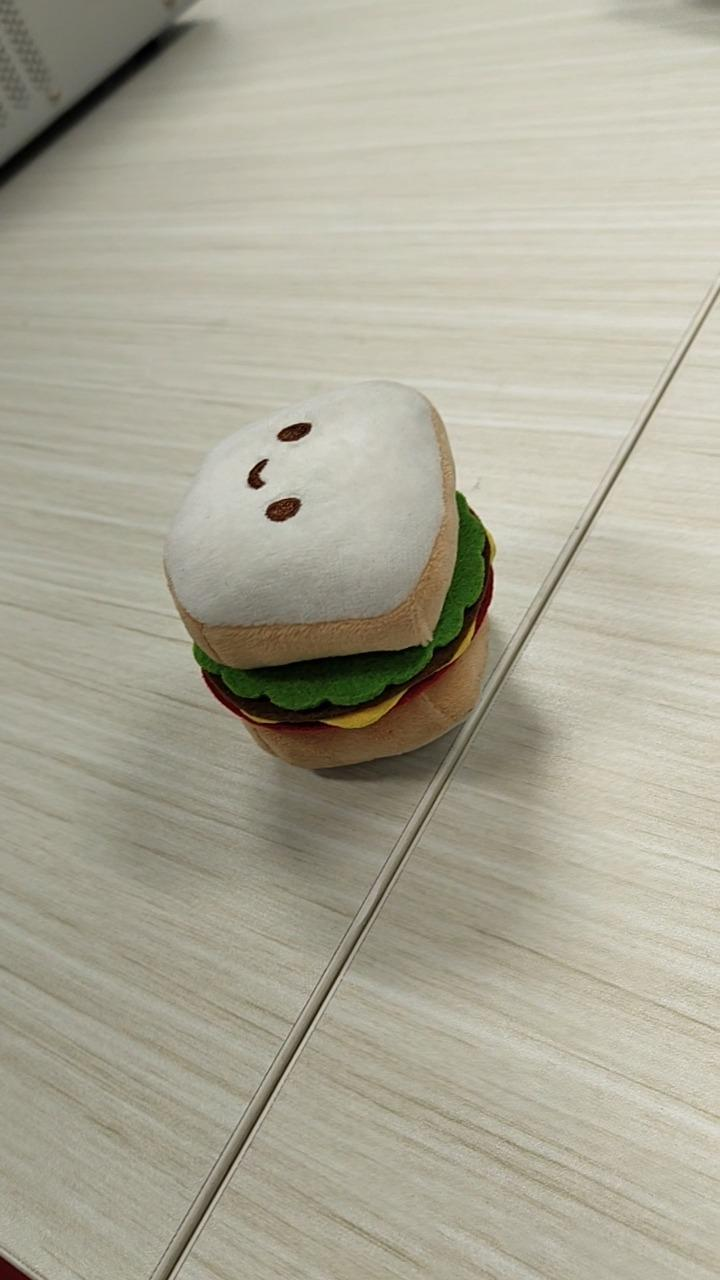objects: (161, 376, 496, 770)
